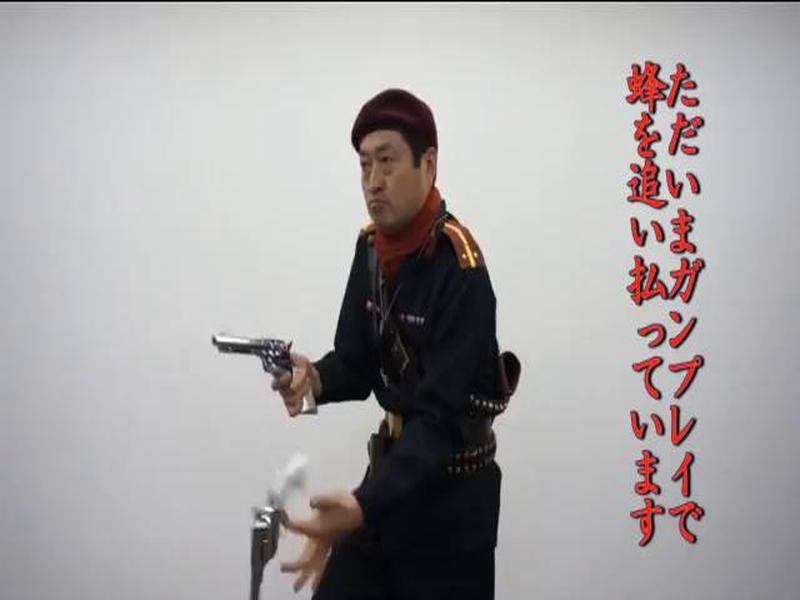Revolver: (234, 444, 321, 600), (214, 324, 318, 426)
